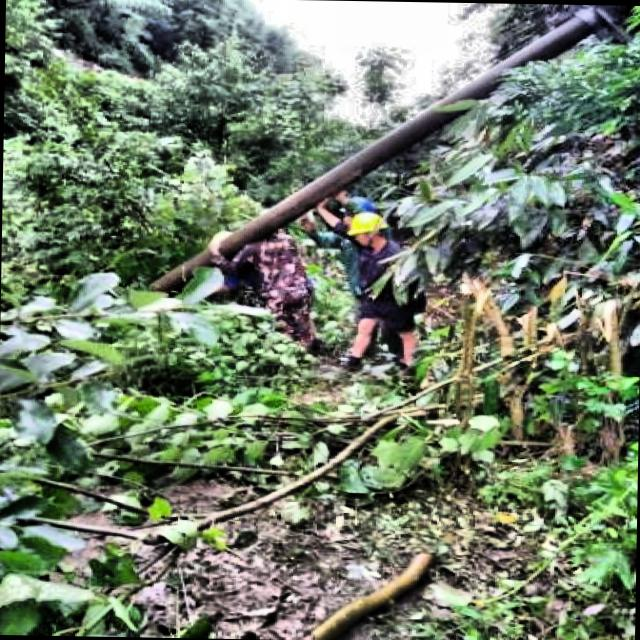helmet: (348, 208, 394, 250)
